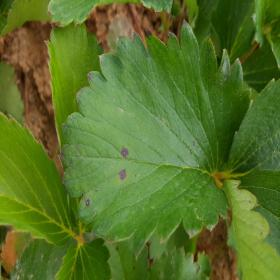Leaf Spot: (61, 18, 252, 261), (105, 236, 150, 279)
